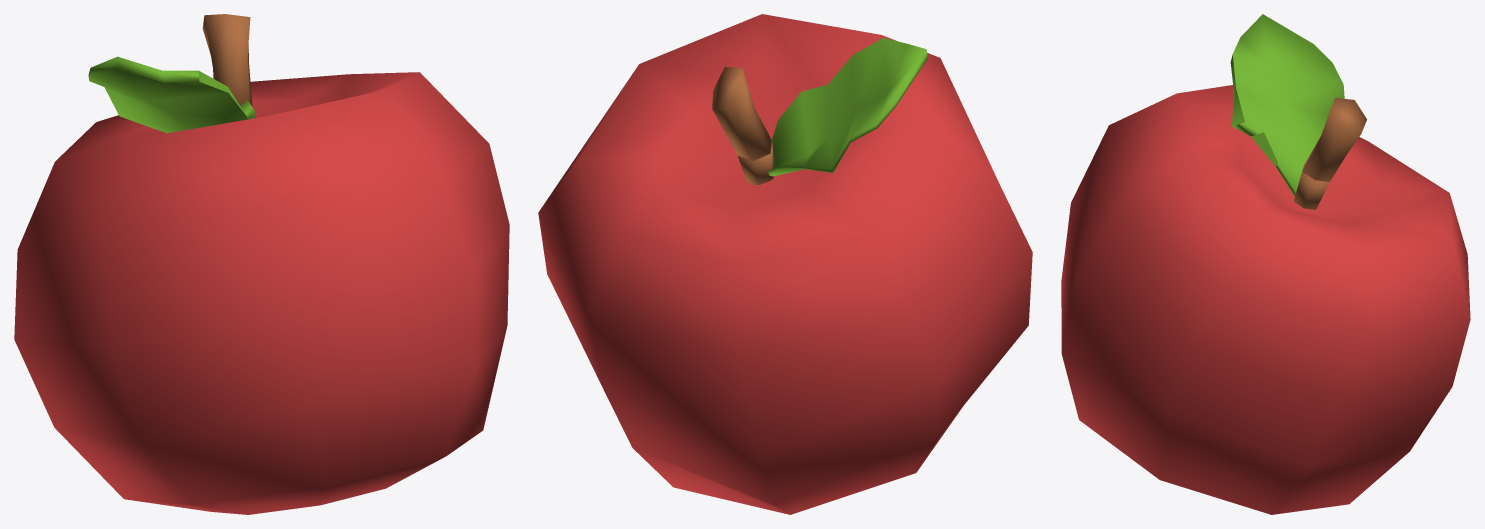
File: Apple.fbx
The picture shows the model from 3 angles, left to right: view 1: azimuth 30°, elevation 25°; view 2: azimuth 150°, elevation 25°; view 3: azimuth 270°, elevation 25°; orthographic projection. The views are drawn at different scales.
Visible parts, largest first — view 1: Cylinder.1270; view 2: Cylinder.1270; view 3: Cylinder.1270.
Part boxes in pixels (x1,y1,x2,y2): Cylinder.1270: [14, 14, 509, 514]; Cylinder.1270: [538, 14, 1032, 514]; Cylinder.1270: [1061, 14, 1470, 514].
Size of the model in its own units: 25.61 by 28.44 by 26.15.
Materials: 1 (1 with a texture image).
